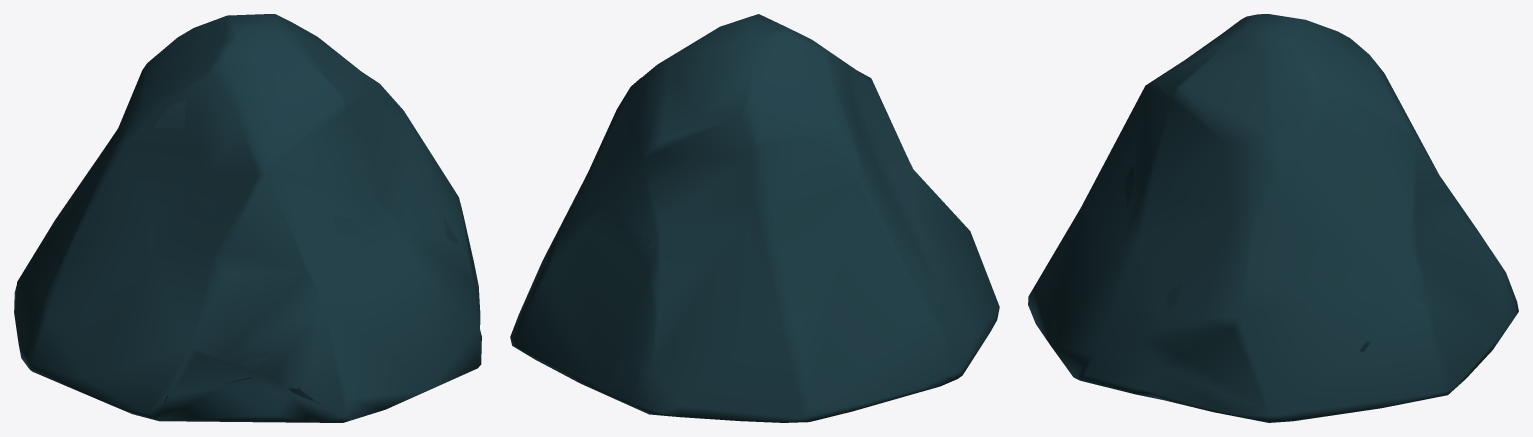
File: gen3d-sea-rock-lod1.glb
3 renders of one model, left to right at view 1: azimuth 30°, elevation 25°; view 2: azimuth 150°, elevation 25°; view 3: azimuth 270°, elevation 25°, orthographic.
Visible parts, largest first — view 1: part_0; view 2: part_0; view 3: part_0.
Part boxes in pixels (<box>): part_0: <box>14,14,481,422</box>; part_0: <box>510,14,999,422</box>; part_0: <box>1028,14,1518,422</box>.
Bounding box in the file's own units: 1.5 × 0.9992 × 1.5.
